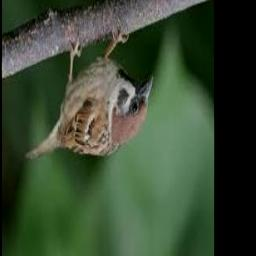Sparrow: (24, 29, 153, 160)
